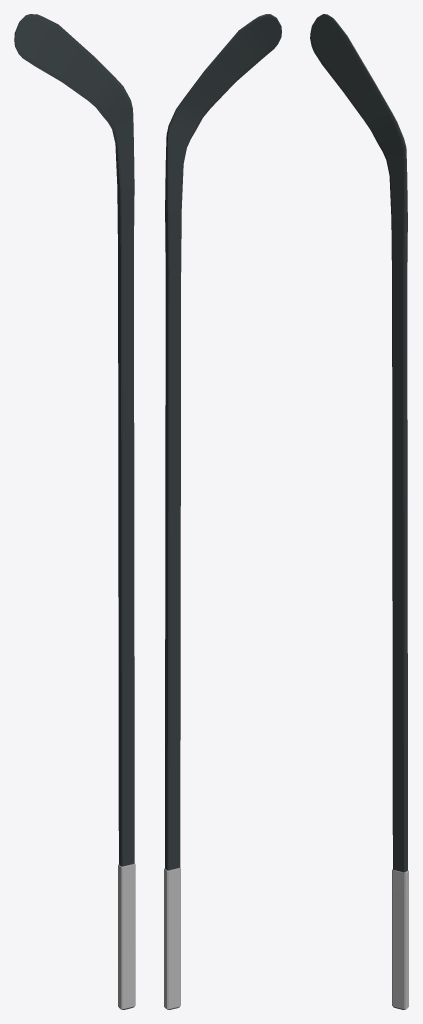
Rendered from hockeyStick.glb.
3 renders of one model, left to right at view 1: azimuth 30°, elevation 25°; view 2: azimuth 210°, elevation 25°; view 3: azimuth 330°, elevation 25°, orthographic. The views are drawn at different scales.
Visible parts, largest first — view 1: pCube2; view 2: pCube2; view 3: pCube2.
Part boxes in pixels (x1,y1,x2,y2): pCube2: (14,14,135,1009); pCube2: (164,14,281,1009); pCube2: (310,14,408,1009).
Bounding box in the file's own units: 21.45 × 188 × 4.35.
1 material, 1 textured.
